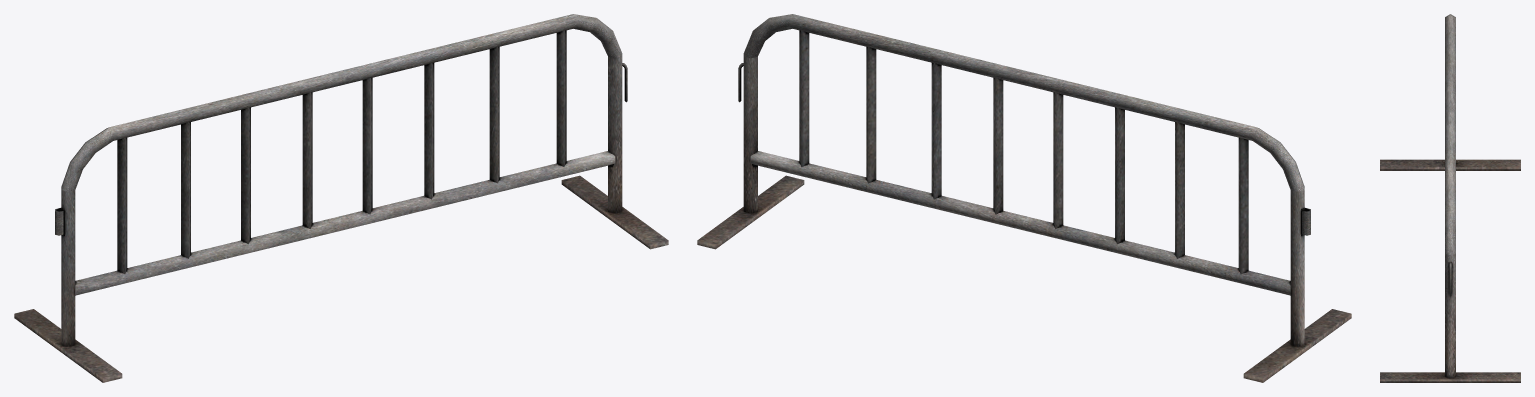
Rendered from barrier_metal.fbx.
3 views of the same model, side by side, from view 1: azimuth 30°, elevation 25°; view 2: azimuth 150°, elevation 25°; view 3: azimuth 270°, elevation 25° (orthographic). The views are drawn at different scales.
Visible parts, largest first — view 1: barrier_metal; view 2: barrier_metal; view 3: barrier_metal.
Part boxes in pixels (x1,y1,x2,y2): barrier_metal: (14,14,668,382); barrier_metal: (697,14,1351,382); barrier_metal: (1380,14,1520,382).
Size of the model in its own units: 3.04 by 1.07 by 0.814.
